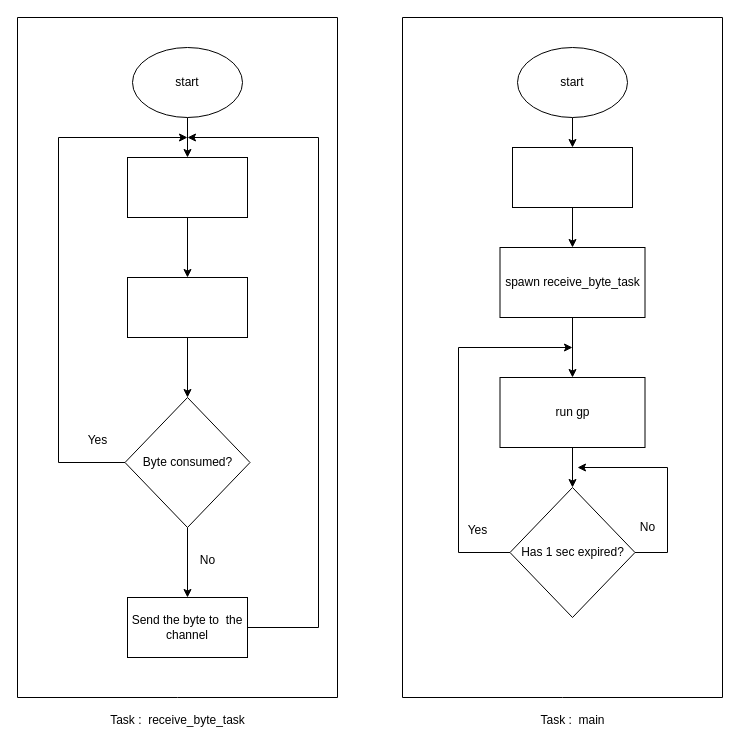
Image size: 741x753. Some labels were removed from this diagram. The shapes that lost their labels are listed below. From the top down, each one's centre as x and y in pixels, then its label:
At (187,187): "wait for new byte in uart buffer".
At (572,177): "gp_port_init".
At (187,307): "Check the byte for acknowledgement".
